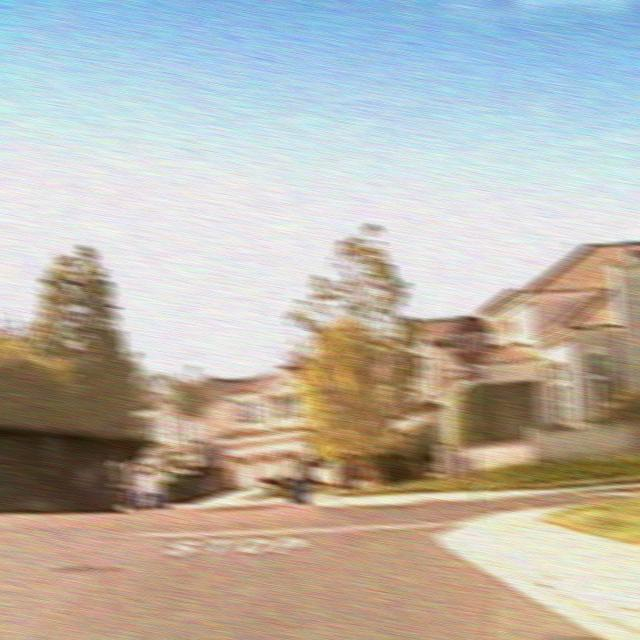stop_sign: (448, 315, 493, 368)
